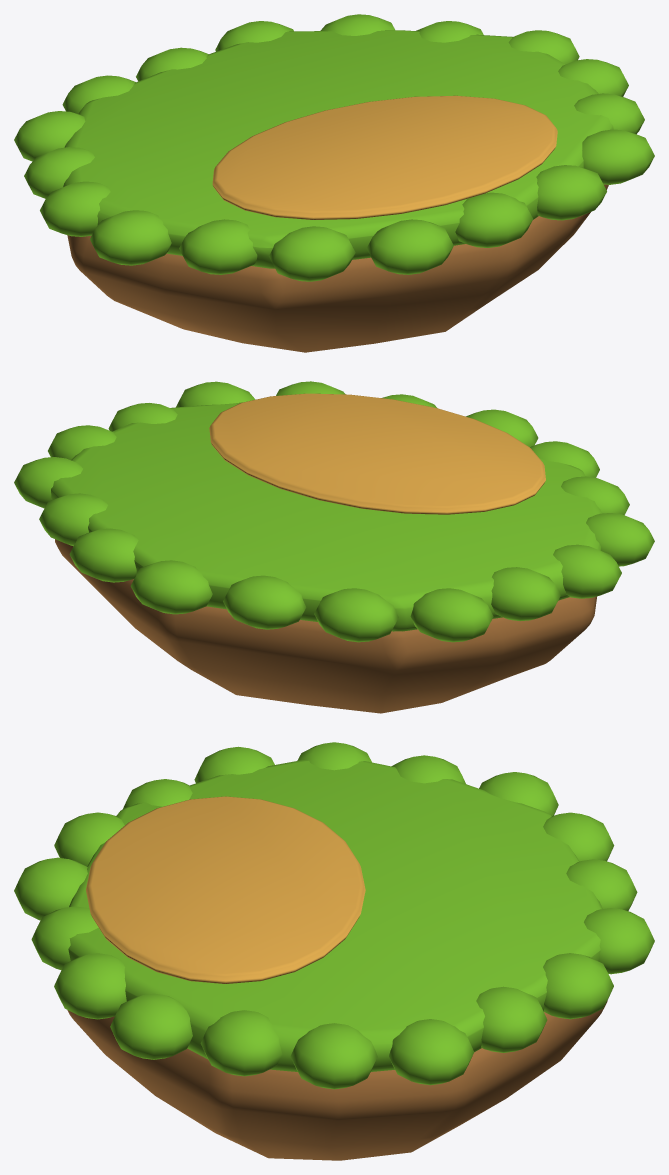
File: FloatingIsland.glb
3 views of the same model, one above another, from view 1: azimuth 30°, elevation 25°; view 2: azimuth 150°, elevation 25°; view 3: azimuth 270°, elevation 25° (orthographic). The views are drawn at different scales.
Parts seen in each view (by area): view 1: Island_Grass, Island_Rock; view 2: Island_Grass, Island_Rock; view 3: Island_Grass, Island_Rock.
Part boxes in pixels (box(x1,y1,x2,y2)): Island_Grass: box(14, 14, 654, 281); Island_Rock: box(67, 184, 608, 352); Island_Grass: box(14, 381, 654, 642); Island_Rock: box(55, 539, 596, 713); Island_Grass: box(14, 742, 654, 1089); Island_Rock: box(67, 1000, 607, 1160).
Size of the model in its own units: 3.68 by 1.19 by 3.07.
